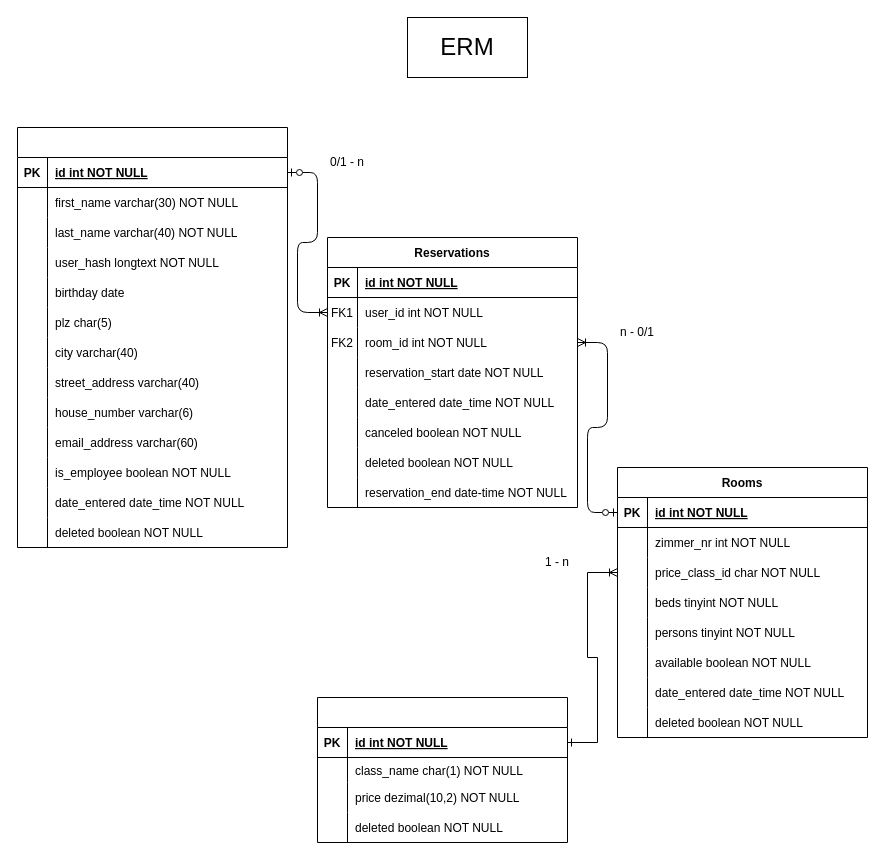
This 885x860 diagram has some shape labels left out. The shapes that lost their labels are listed below. From the top down, each one's box as (x1, y1, x2, y2) in pixels, then its label:
(16, 126, 288, 548): Users
(316, 696, 568, 842): price_class
